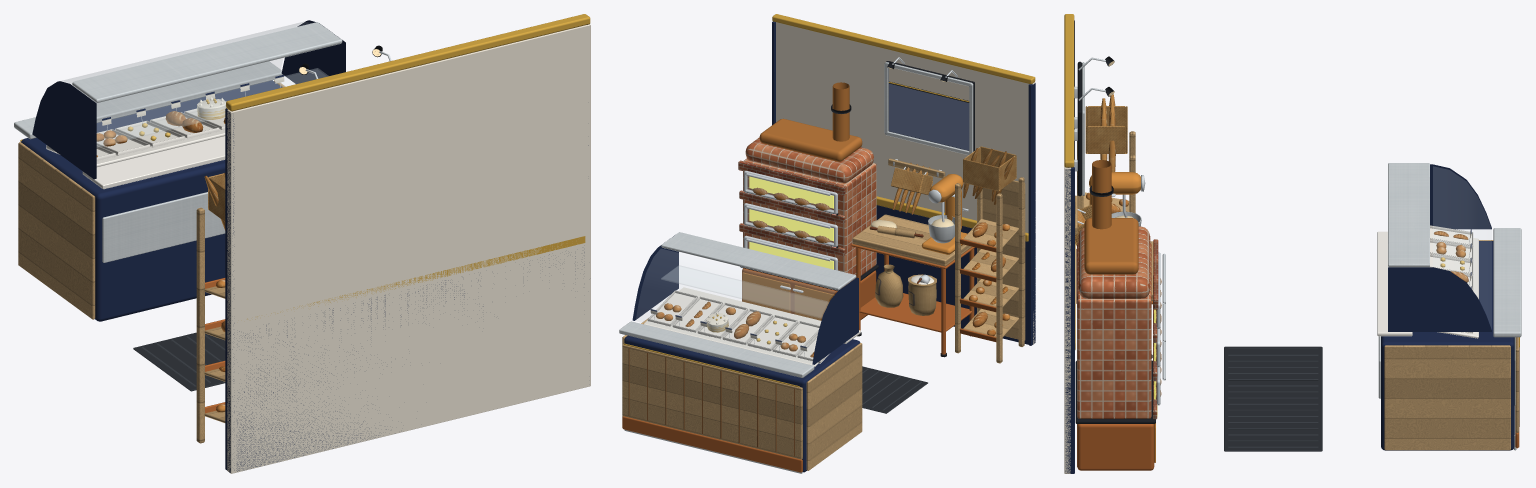
File: sector-padaria_T1.fbx
3 views of the same model, side by side, from view 1: azimuth 30°, elevation 25°; view 2: azimuth 150°, elevation 25°; view 3: azimuth 270°, elevation 25° (orthographic). The views are drawn at different scales.
Parts seen in each view (by area): view 1: Back Wall, Body; view 2: Body, Back Wall, Wall Dressing; view 3: Body, Back Wall, Wall Dressing.
Part boxes in pixels (x1,y1,x2,y2): Back Wall: (225,14,590,473); Body: (14,20,345,443); Body: (619,82,1025,473); Back Wall: (772,14,1035,345); Wall Dressing: (884,57,974,214); Body: (1075,94,1521,470); Back Wall: (1064,14,1075,473); Wall Dressing: (1074,56,1114,245).
Bounding box in the file's own units: 2.5 × 2.45 × 3.25.
